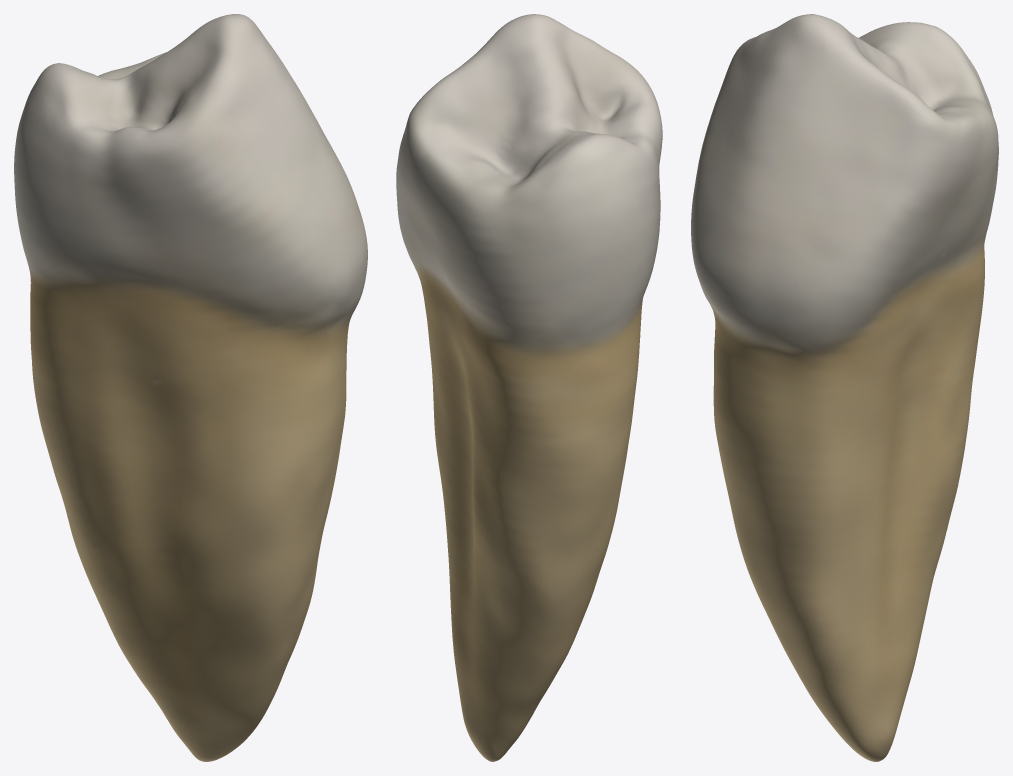
The model's file is mandibular_first_premolar.glb.
The picture shows the model from 3 angles, left to right: view 1: azimuth 30°, elevation 25°; view 2: azimuth 150°, elevation 25°; view 3: azimuth 270°, elevation 25°; orthographic projection. The views are drawn at different scales.
Parts seen in each view (by area): view 1: Object_2; view 2: Object_2; view 3: Object_2.
Part boxes in pixels (<box>): Object_2: <box>14,14,367,761</box>; Object_2: <box>396,14,662,761</box>; Object_2: <box>691,14,998,761</box>.
Bounding box in the file's own units: 0.3401 × 0.8793 × 0.3319.
Materials: 1 (1 with a texture image).
